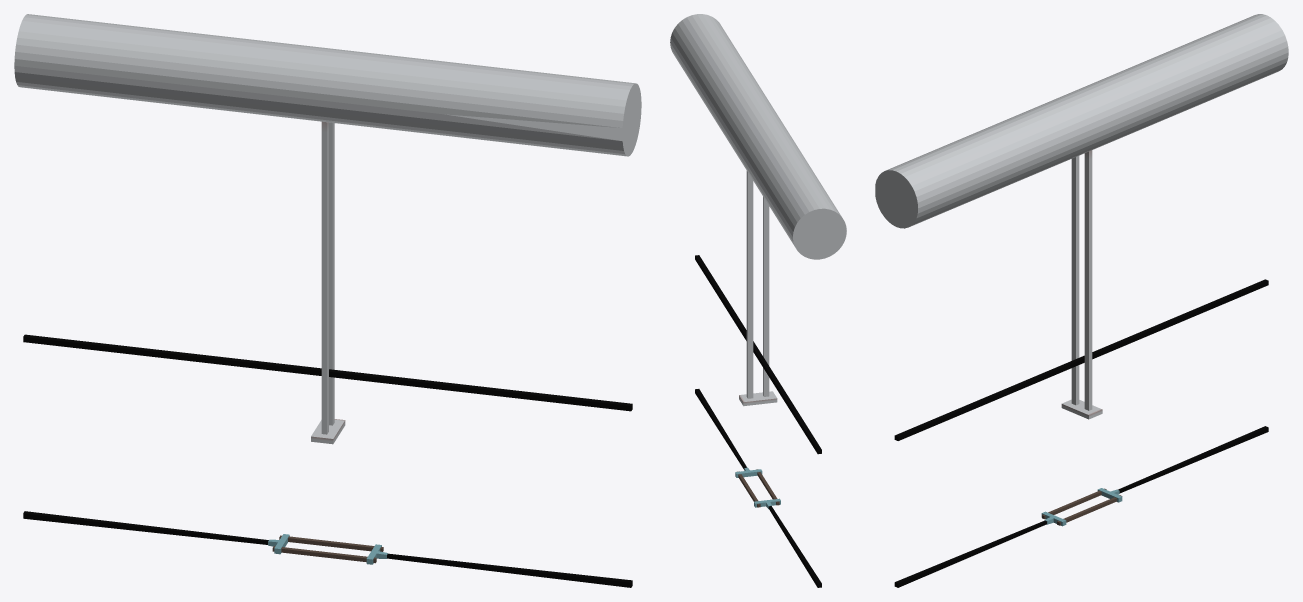
The model's file is 45d_moretop_expand-hrigid.obj.
3 renders of one model, left to right at view 1: azimuth 30°, elevation 25°; view 2: azimuth 150°, elevation 25°; view 3: azimuth 270°, elevation 25°, orthographic. The views are drawn at different scales.
Parts seen in each view (by area): view 1: moretop_1.001; view 2: moretop_1.001; view 3: moretop_1.001.
Part boxes in pixels (x1=…): moretop_1.001: x1=14, y1=14, x2=641, y2=587; moretop_1.001: x1=670, y1=14, x2=846, y2=587; moretop_1.001: x1=875, y1=14, x2=1288, y2=587.
Bounding box in the file's own units: 2.68 × 2.98 × 2.68.
2 materials, 2 textured.
